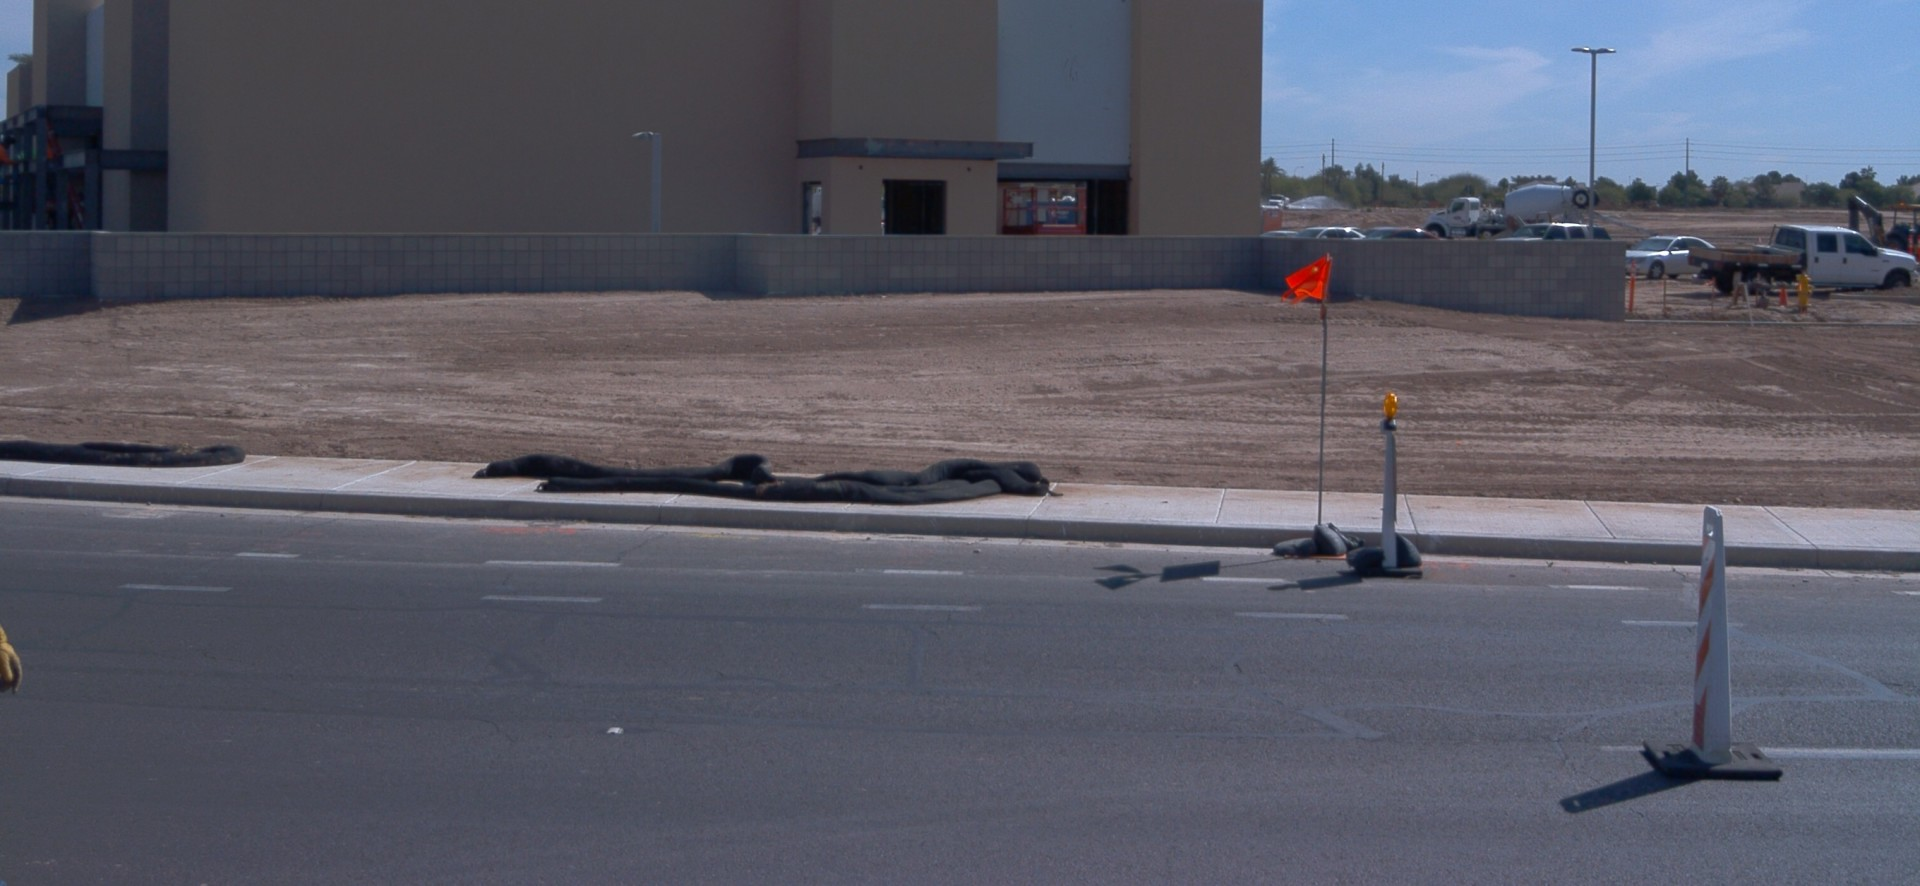TYPE_PEDESTRIAN: (0, 619, 27, 699)
TYPE_VEHICLE: (1687, 226, 1918, 293), (1421, 178, 1645, 243), (1842, 187, 1916, 269), (1625, 234, 1720, 280), (1499, 224, 1616, 243), (1361, 228, 1447, 248), (1294, 226, 1366, 240), (1504, 213, 1554, 233), (1268, 189, 1290, 207), (1260, 231, 1300, 236)
